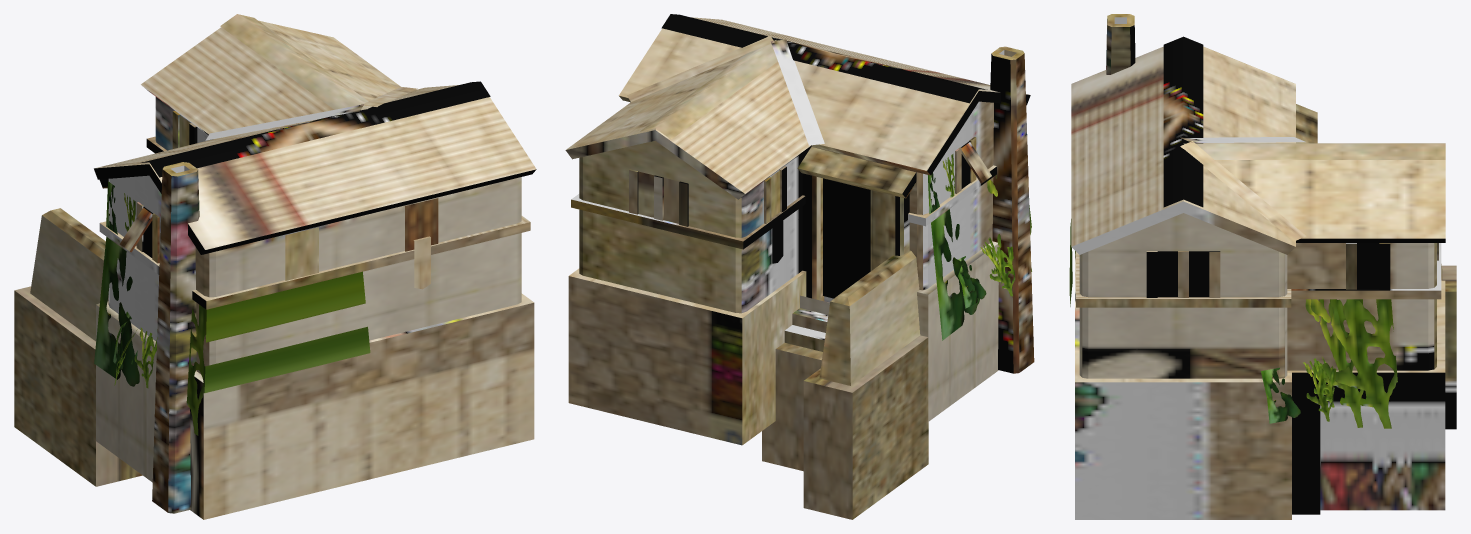
File: house.glb
3 views of the same model, side by side, from view 1: azimuth 30°, elevation 25°; view 2: azimuth 150°, elevation 25°; view 3: azimuth 270°, elevation 25° (orthographic). The views are drawn at different scales.
Parts seen in each view (by area): view 1: house; view 2: house; view 3: house.
Boxes of the visible parts, bbox=[...] form: house: bbox=[14, 14, 536, 519]; house: bbox=[565, 14, 1034, 519]; house: bbox=[1069, 14, 1456, 519].
Bounding box in the file's own units: 2.4 × 2.26 × 2.09.
2 materials, 2 textured.
